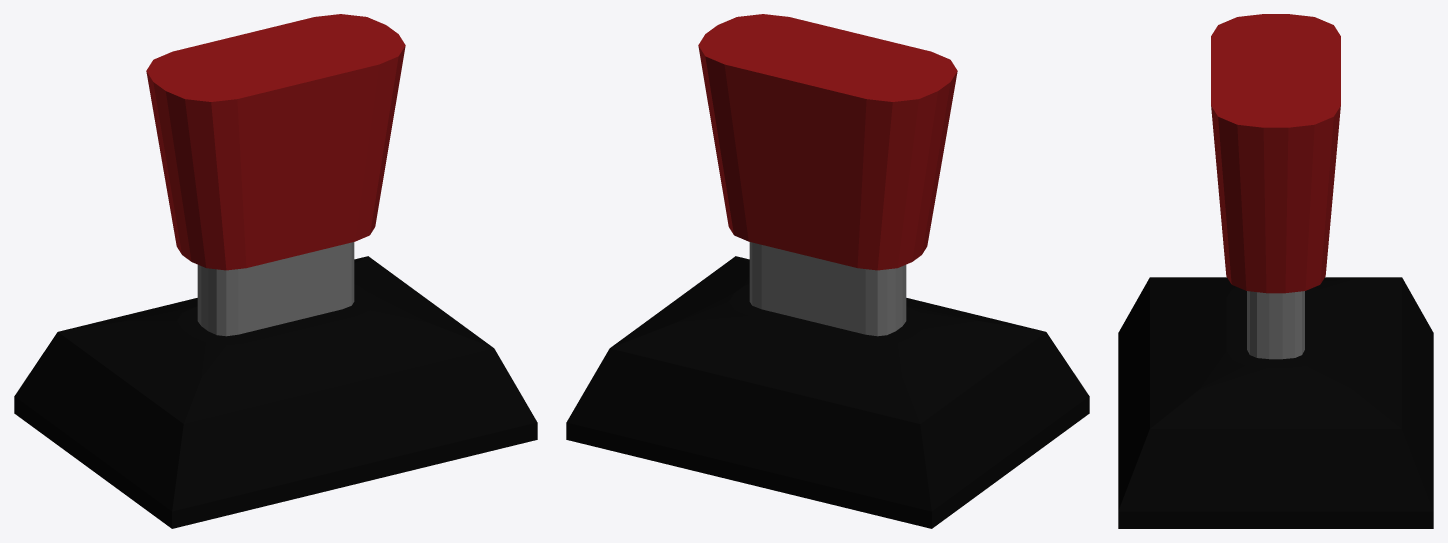
Rendered from Stamp.fbx.
The picture shows the model from 3 angles, left to right: view 1: azimuth 30°, elevation 25°; view 2: azimuth 150°, elevation 25°; view 3: azimuth 270°, elevation 25°; orthographic projection.
Parts seen in each view (by area): view 1: Cube; view 2: Cube; view 3: Cube.
Boxes of the visible parts, <box> form: Cube: <box>14,14,537,528</box>; Cube: <box>566,14,1089,528</box>; Cube: <box>1118,14,1433,528</box>.
Size of the model in its own units: 104 by 100 by 77.78.
